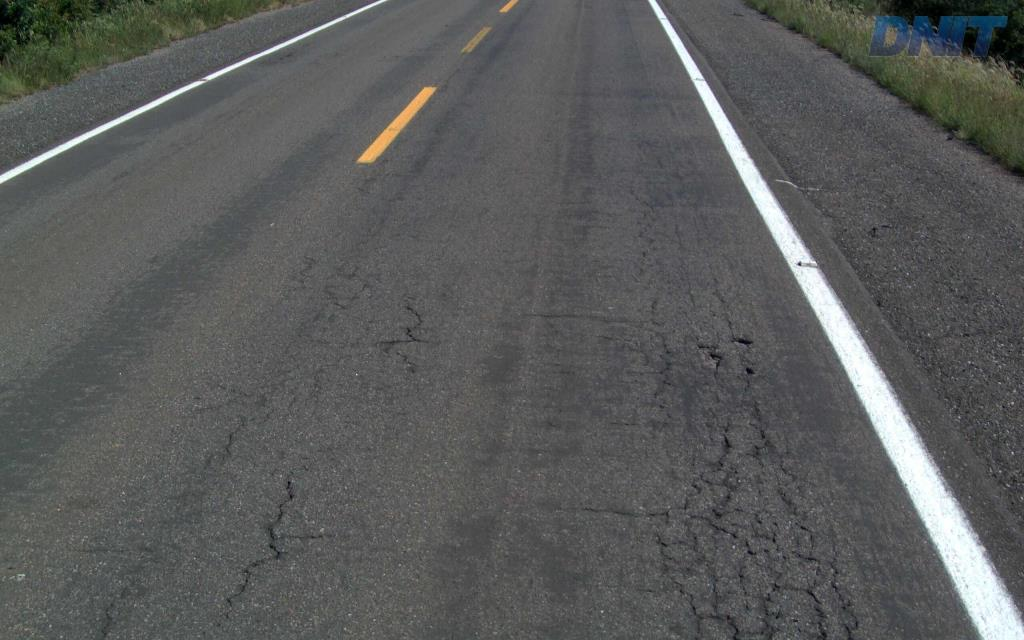crack: (706, 574, 786, 639), (827, 557, 859, 639), (789, 579, 827, 639), (711, 466, 740, 519)
